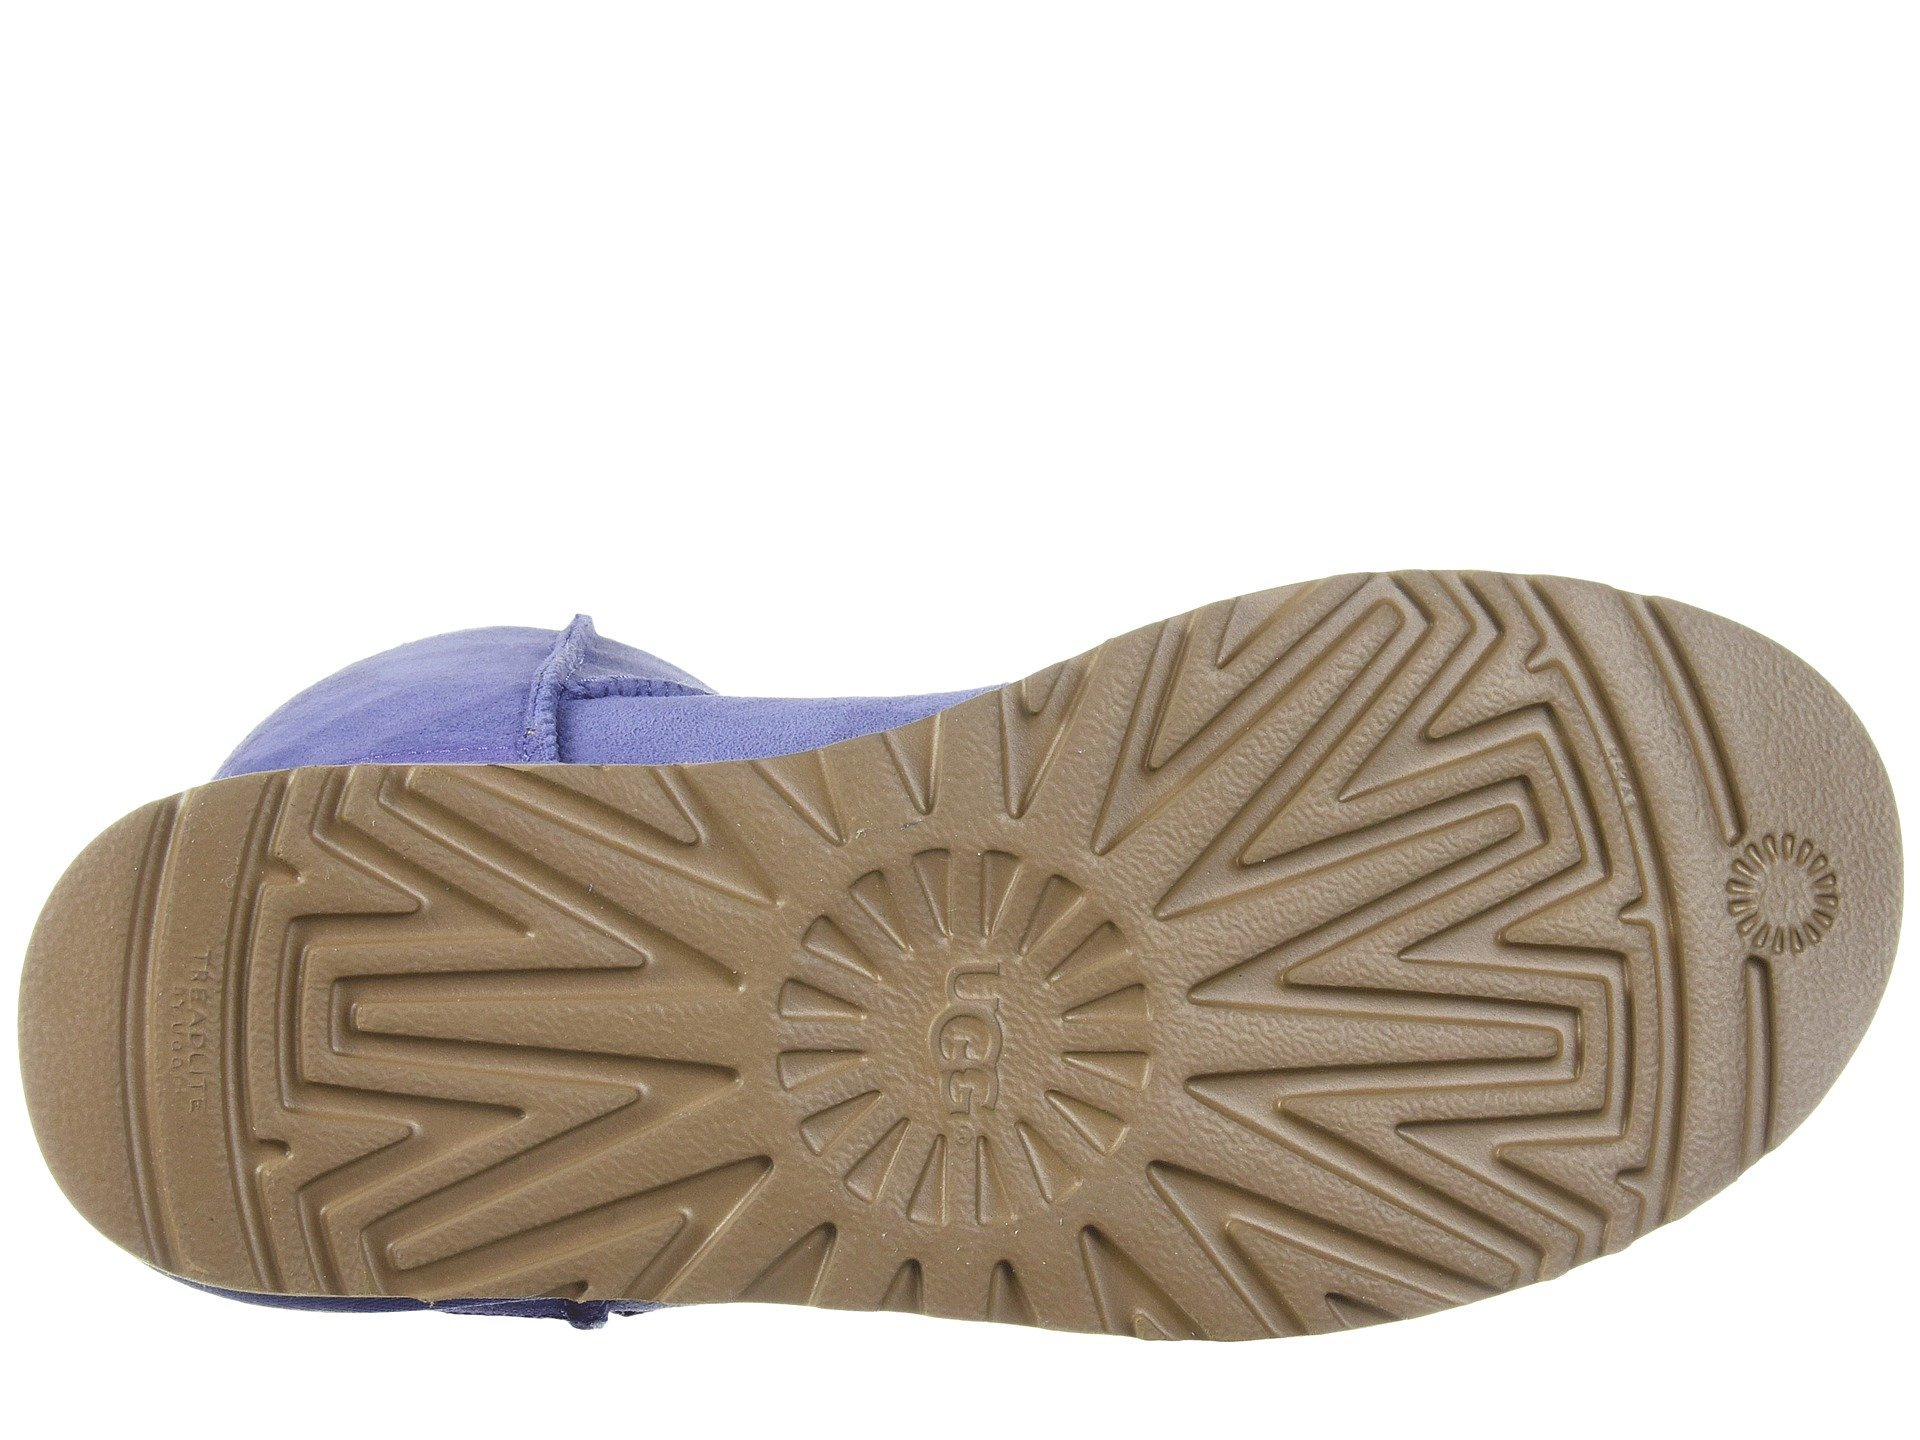chevron: (1212, 596, 1655, 1280)
circle: (754, 833, 1176, 1243), (1714, 826, 1860, 961)
line: (1212, 596, 1655, 1280), (122, 908, 225, 1159)
star: (754, 833, 1176, 1243), (1714, 826, 1860, 961)
text: (754, 833, 1176, 1243), (122, 908, 225, 1159)
triangle: (754, 833, 1176, 1243), (1714, 826, 1860, 961)
